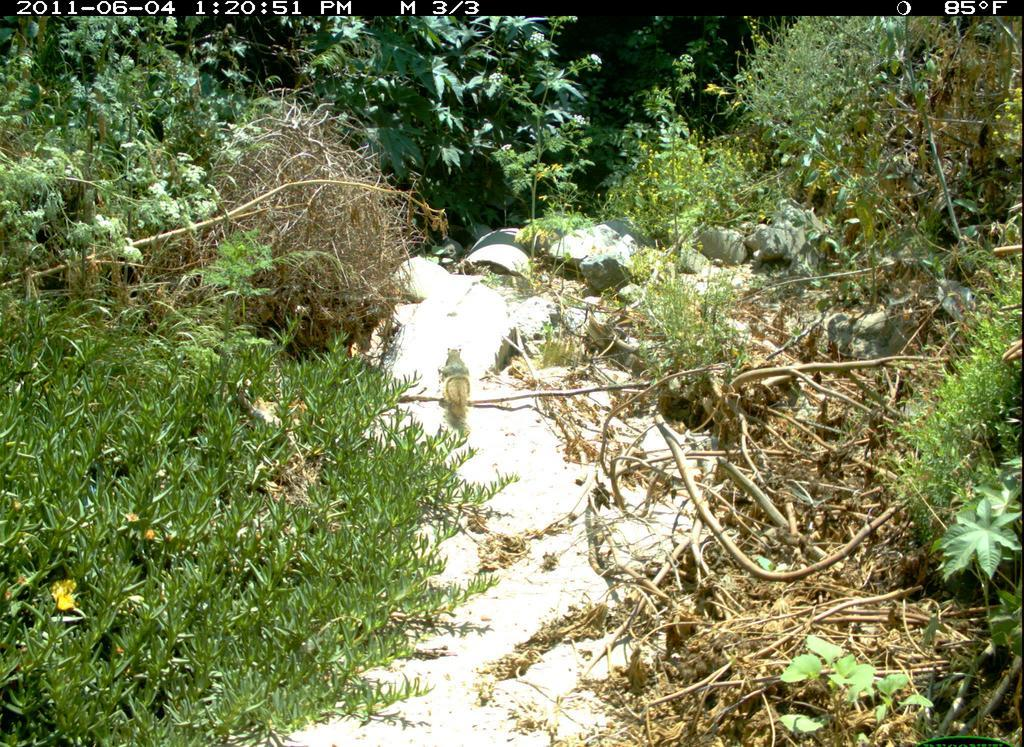squirrel: (440, 344, 483, 437)
